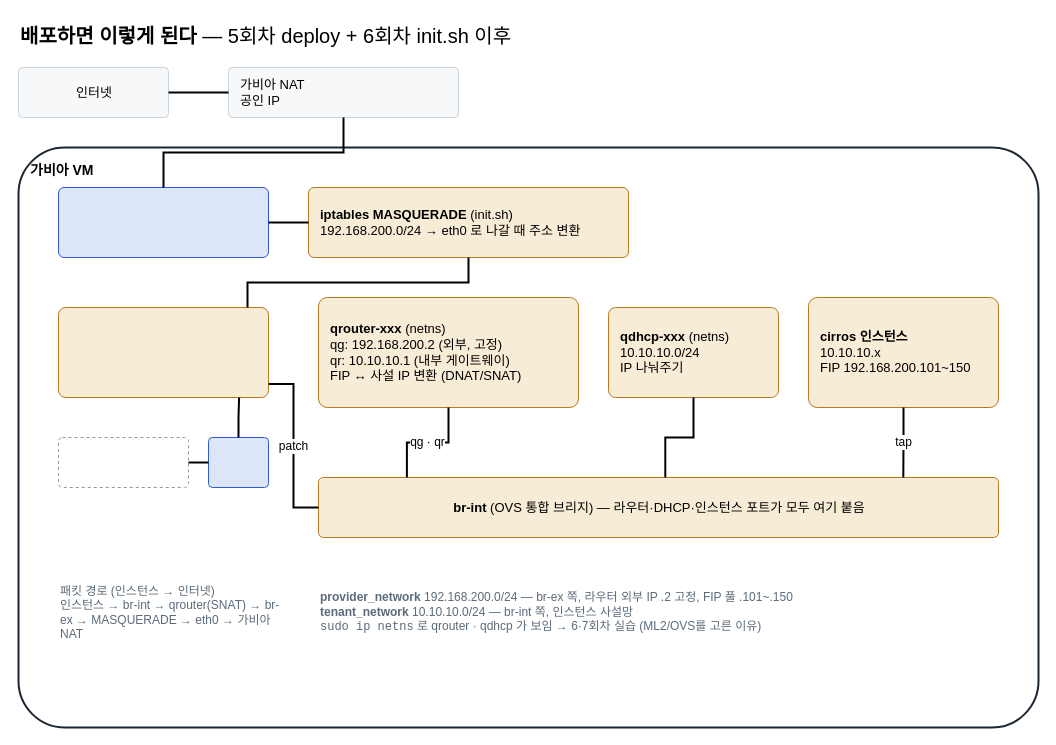
The diagram is 1056 pixels wide and 745 high, and some of its shapes have lost their labels. The centre of each missing label's shape, as x and y in pixels:
"br-ex (OVS) 192.168.200.1 ← init.sh가 부여 포트: veth1" belongs at pixel 163 352.
"eth0 사설 IP" belongs at pixel 163 222.
"veth0 (미부착)" belongs at pixel 123 462.
"veth1" belongs at pixel 238 462.
